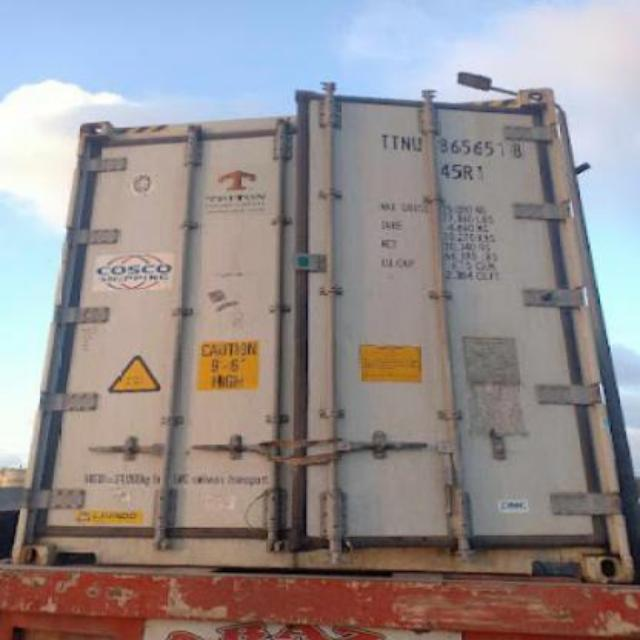1: (494, 136, 504, 160)
5: (482, 134, 494, 158), (460, 130, 470, 158)
6: (448, 133, 458, 157), (472, 136, 482, 158)
8: (436, 134, 448, 156), (511, 141, 524, 159)
N: (398, 132, 410, 154)
T: (374, 130, 388, 154), (388, 131, 398, 155)
U: (410, 132, 422, 156)
